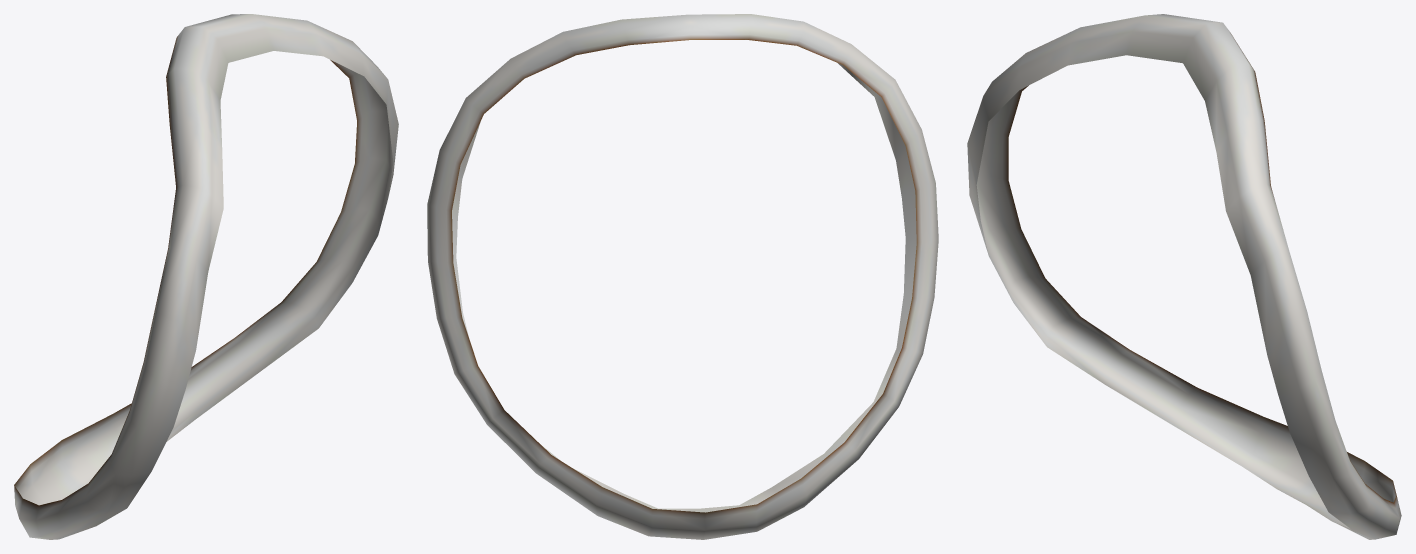
Rendered from object_3_lev1_lev2.glb.
3 renders of one model, left to right at view 1: azimuth 30°, elevation 25°; view 2: azimuth 150°, elevation 25°; view 3: azimuth 270°, elevation 25°, orthographic. The views are drawn at different scales.
Visible parts, largest first — view 1: object_3_lev1_lev2; view 2: object_3_lev1_lev2; view 3: object_3_lev1_lev2.
Boxes of the visible parts, left/top/right/bottom form: object_3_lev1_lev2: left=14, top=14, right=398, bottom=539; object_3_lev1_lev2: left=427, top=14, right=938, bottom=539; object_3_lev1_lev2: left=967, top=14, right=1401, bottom=539.
Size of the model in its own units: 2.22 by 2.56 by 1.91.
1 material, 1 textured.
